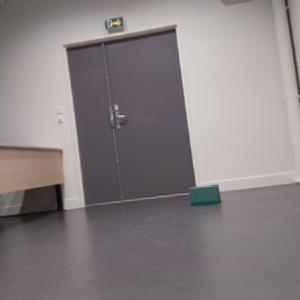small: (188, 184, 222, 206)
